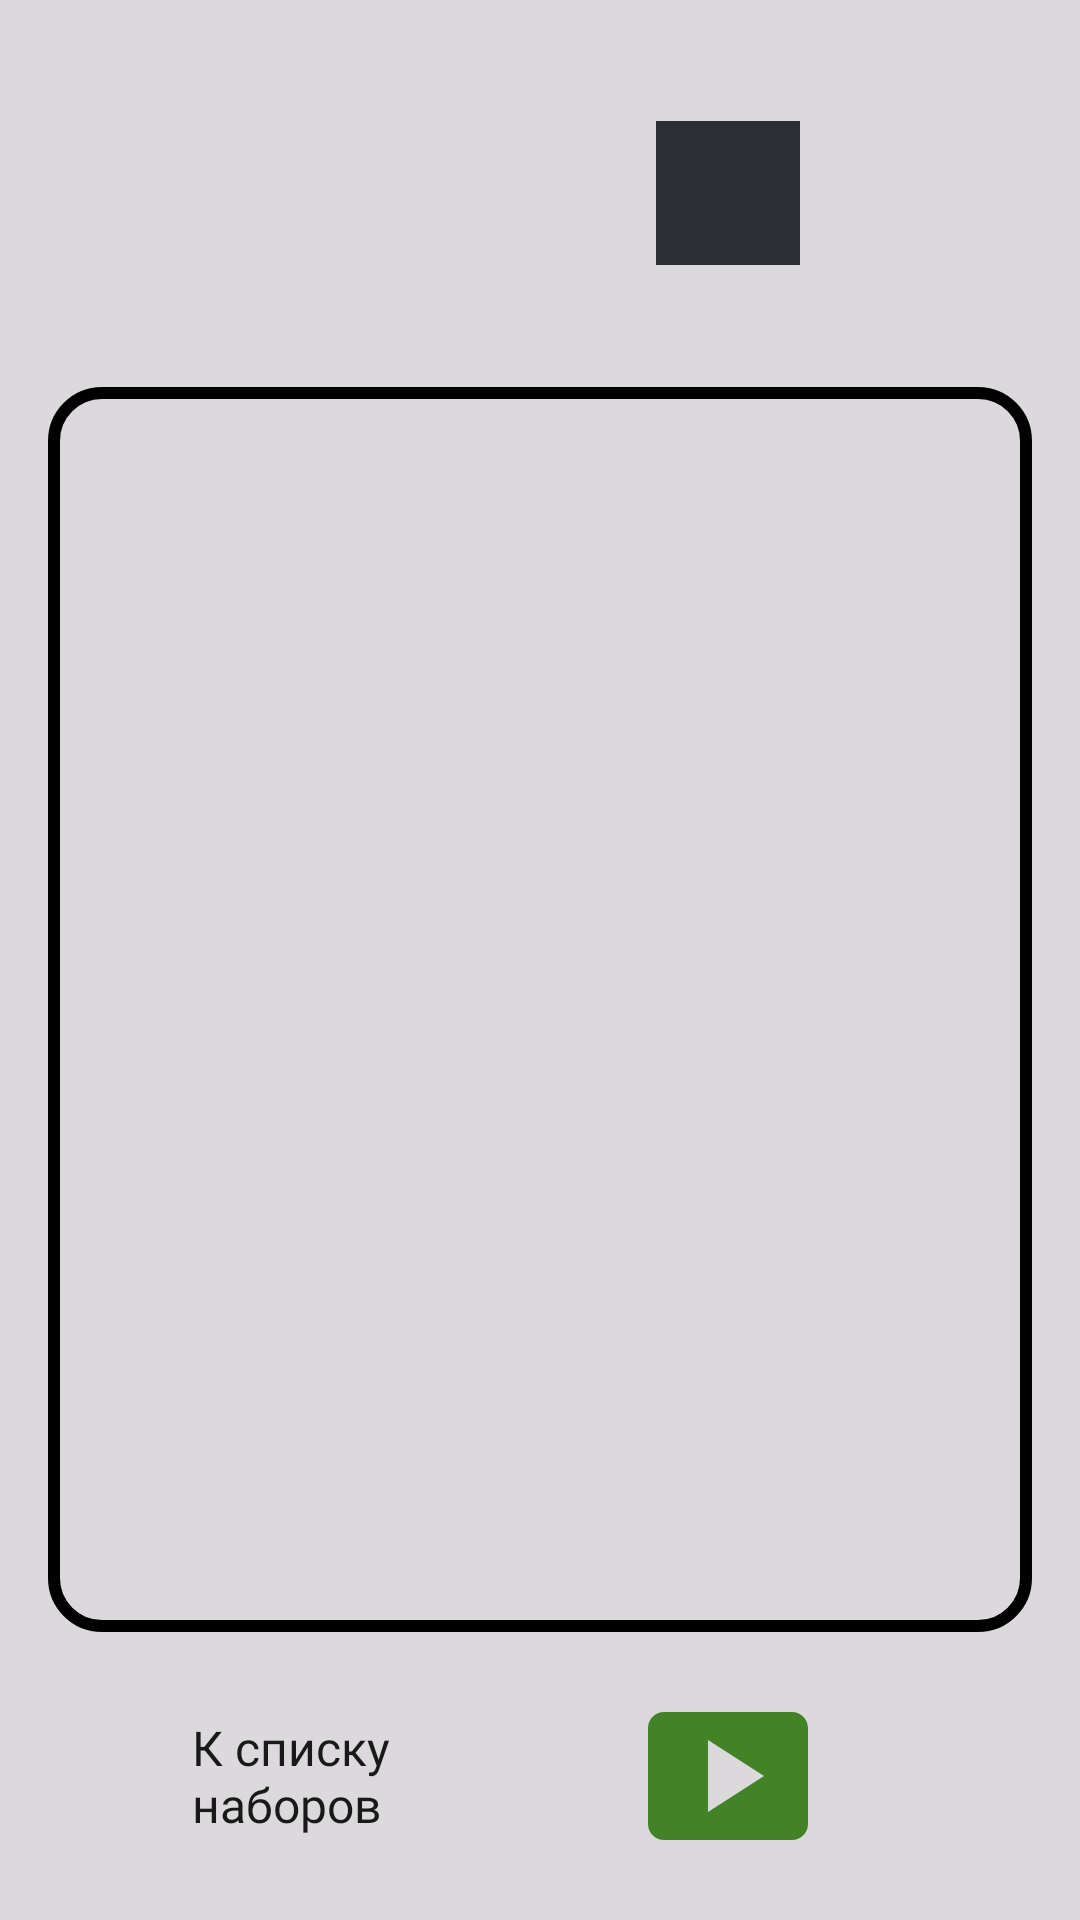

Icon bounding boxes for this 1080px x 1920px phone screenshot, format region(x1, y1, x2, y2):
play: region(648, 1712, 808, 1840)
